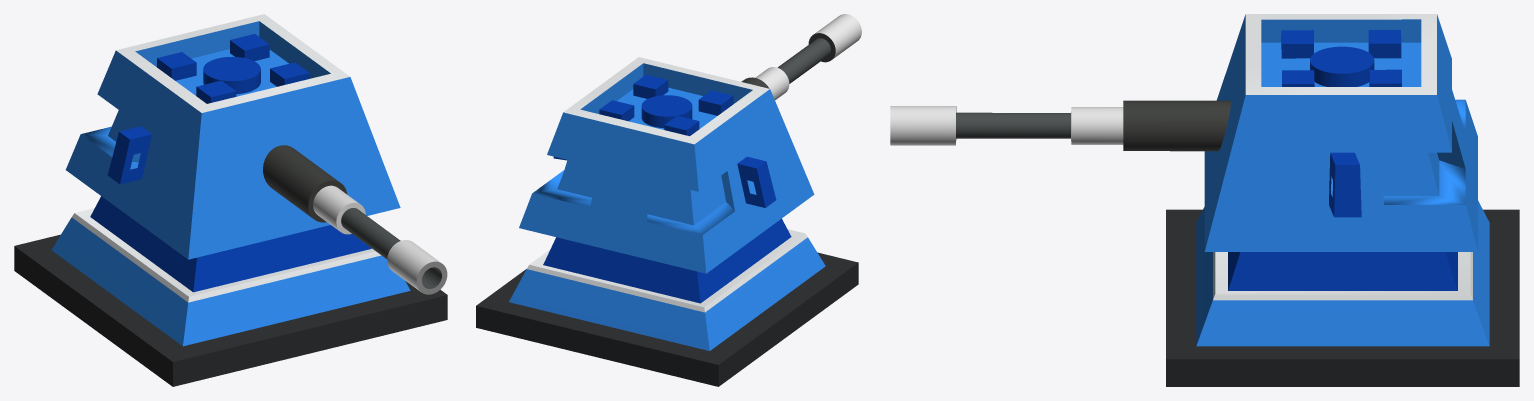
Rendered from Gator Siege_turret1.fbx.
3 views of the same model, side by side, from view 1: azimuth 30°, elevation 25°; view 2: azimuth 150°, elevation 25°; view 3: azimuth 270°, elevation 25° (orthographic). The views are drawn at different scales.
Parts seen in each view (by area): view 1: turret1.009, turret1.2; view 2: turret1.009, turret1.2; view 3: turret1.009, turret1.2.
Part boxes in pixels (bbox=[...]): turret1.009: bbox=[65, 14, 447, 294]; turret1.2: bbox=[14, 196, 447, 386]; turret1.009: bbox=[519, 14, 861, 273]; turret1.2: bbox=[476, 218, 858, 386]; turret1.009: bbox=[890, 14, 1477, 251]; turret1.2: bbox=[1166, 200, 1519, 386].
Bounding box in the file's own units: 0.1958 × 0.3485 × 0.1586.
